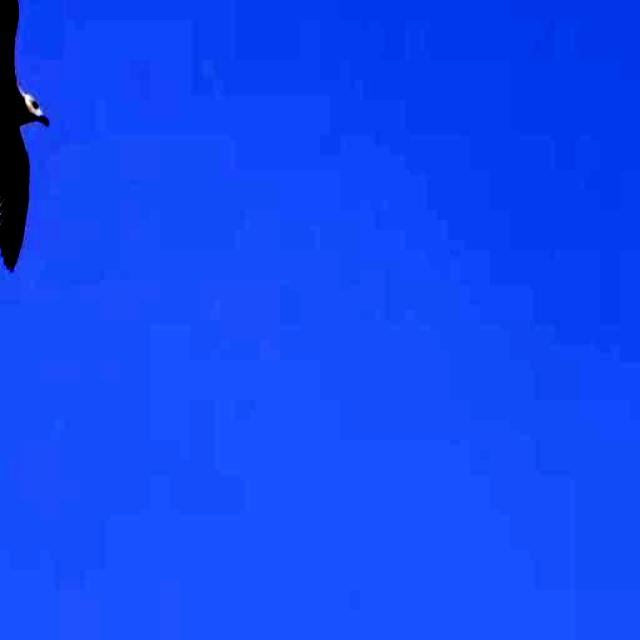airplane: (0, 0, 61, 269)
